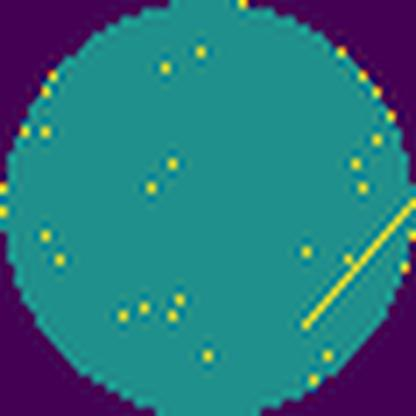Scratch: (295, 194, 416, 335)
